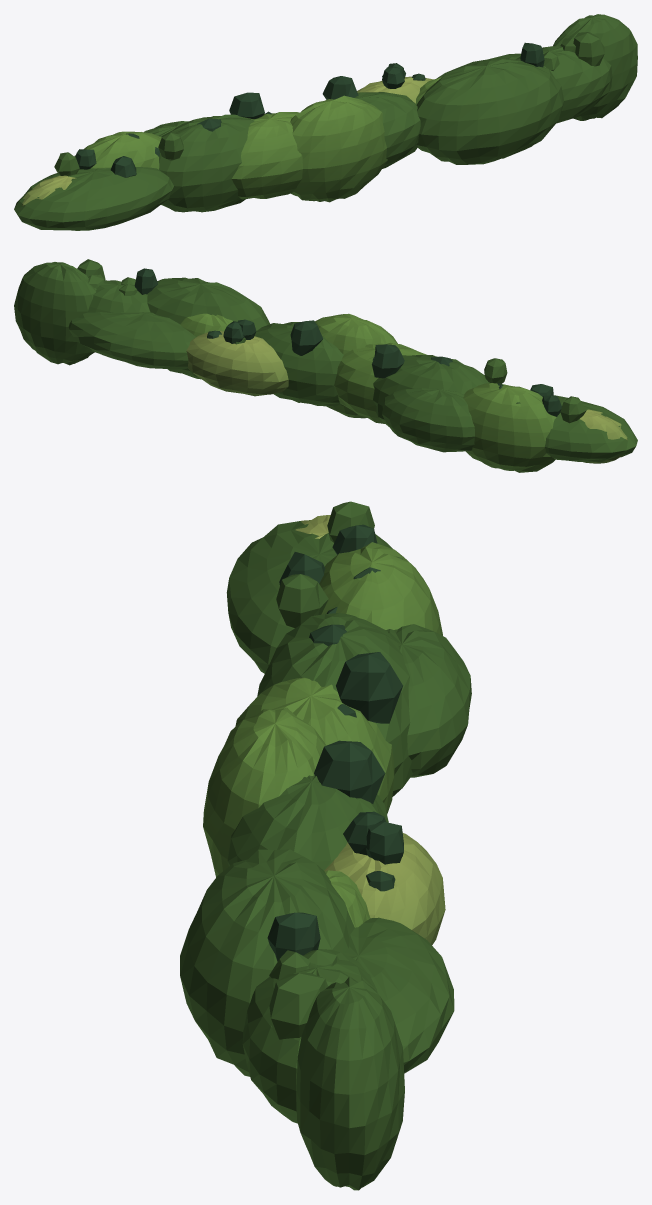
The model's file is hills.glb.
3 views of the same model, one above another, from view 1: azimuth 30°, elevation 25°; view 2: azimuth 150°, elevation 25°; view 3: azimuth 270°, elevation 25° (orthographic). The views are drawn at different scales.
Visible parts, largest first — view 1: hills; view 2: hills; view 3: hills.
Boxes of the visible parts, x1,y1,x2,y2 form: hills: (14, 14, 637, 230); hills: (14, 259, 637, 472); hills: (180, 501, 471, 1190).
Bounding box in the file's own units: 105 × 16.59 × 21.57.
